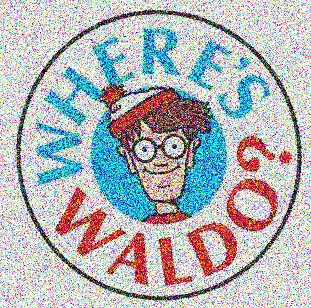waldos: (99, 82, 215, 224)
